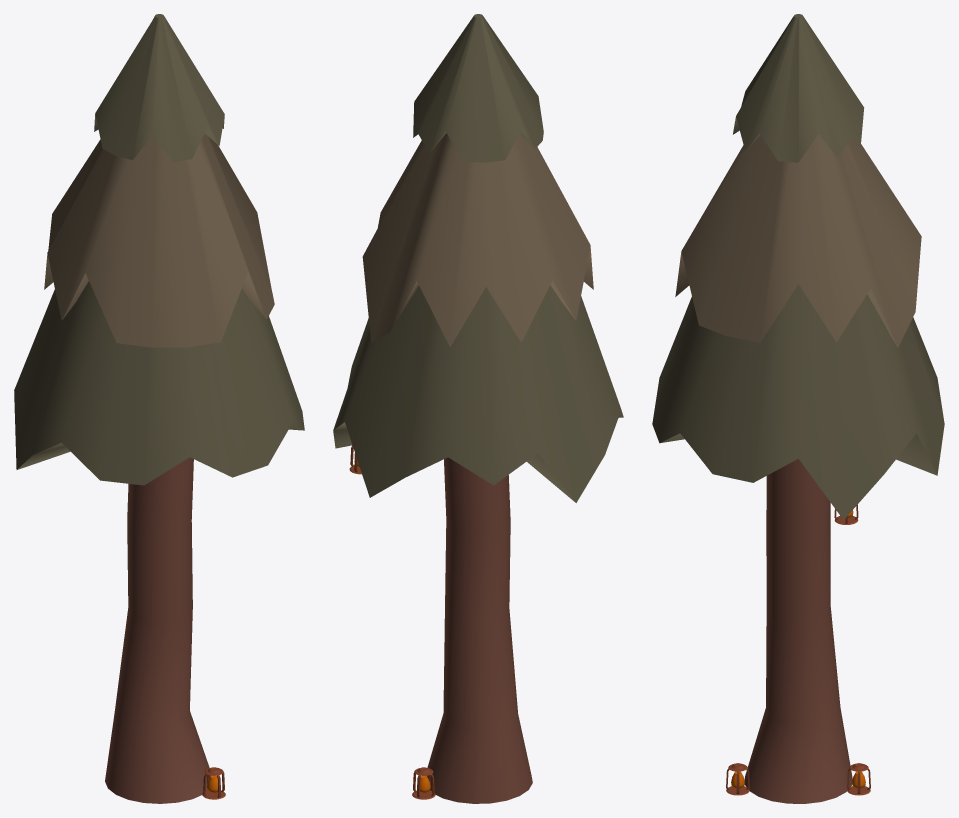
The model's file is Lowpoly_Tree_Lamps_ver2.fbx.
The picture shows the model from 3 angles, left to right: view 1: azimuth 30°, elevation 25°; view 2: azimuth 150°, elevation 25°; view 3: azimuth 270°, elevation 25°; orthographic projection.
Parts seen in each view (by area): view 1: Lowpoly_Tree_Lamps_ver2; view 2: Lowpoly_Tree_Lamps_ver2; view 3: Lowpoly_Tree_Lamps_ver2.
Part boxes in pixels (<box>): Lowpoly_Tree_Lamps_ver2: <box>14,14,304,803</box>; Lowpoly_Tree_Lamps_ver2: <box>333,14,623,803</box>; Lowpoly_Tree_Lamps_ver2: <box>652,14,944,803</box>.
Size of the model in its own units: 9.05 by 26.12 by 9.05.
